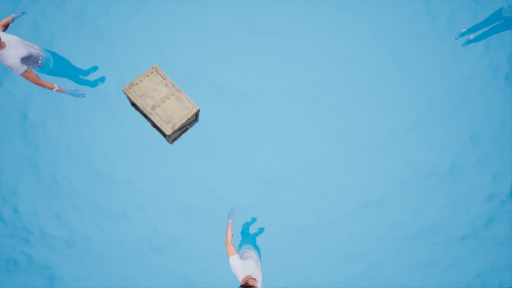person: (2, 16, 111, 107), (209, 203, 278, 288)
